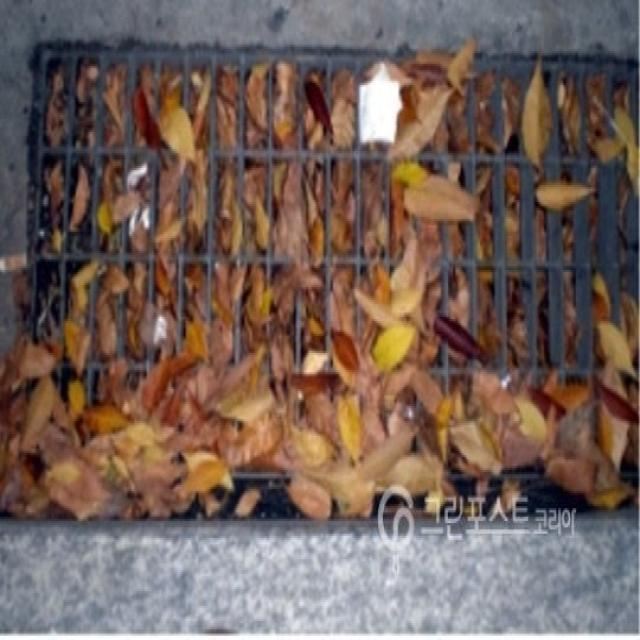drain_full: (19, 51, 636, 521)
